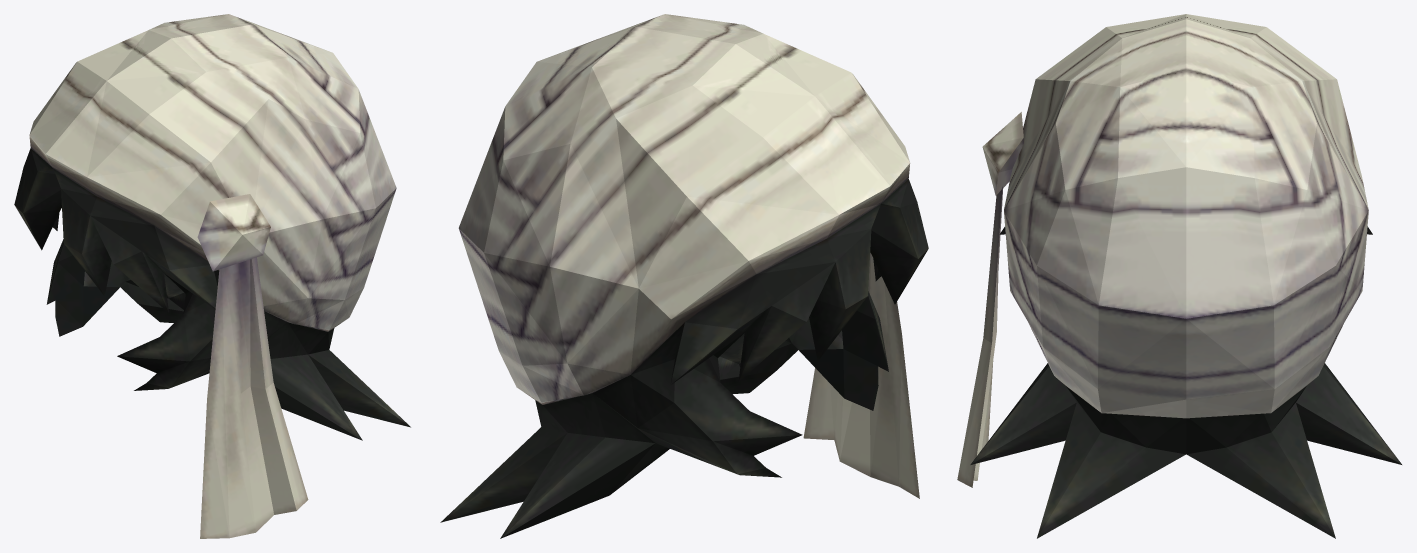
File: Cat_abetteHat.obj
3 renders of one model, left to right at view 1: azimuth 30°, elevation 25°; view 2: azimuth 150°, elevation 25°; view 3: azimuth 270°, elevation 25°, orthographic. The views are drawn at different scales.
Parts seen in each view (by area): view 1: Cat_abetteHat_tri; view 2: Cat_abetteHat_tri; view 3: Cat_abetteHat_tri.
Part boxes in pixels (left/top/right/bottom): Cat_abetteHat_tri: left=14, top=14, right=410, bottom=538; Cat_abetteHat_tri: left=440, top=14, right=928, bottom=538; Cat_abetteHat_tri: left=957, top=14, right=1401, bottom=538.
Bounding box in the file's own units: 0.32 × 0.3914 × 0.3372.
1 material, 1 textured.
